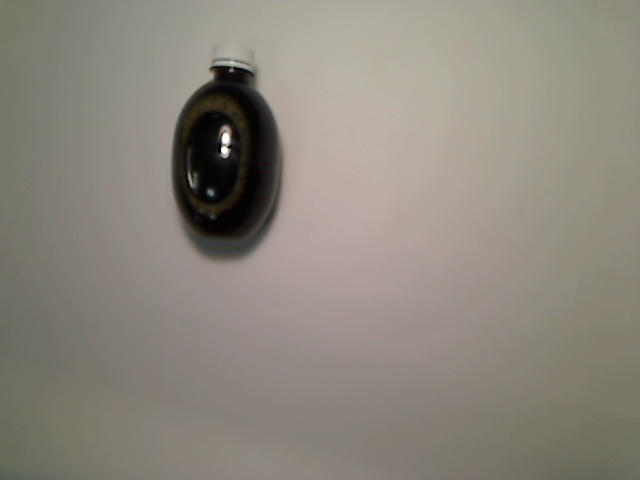plast_bottle: (169, 37, 285, 243)
